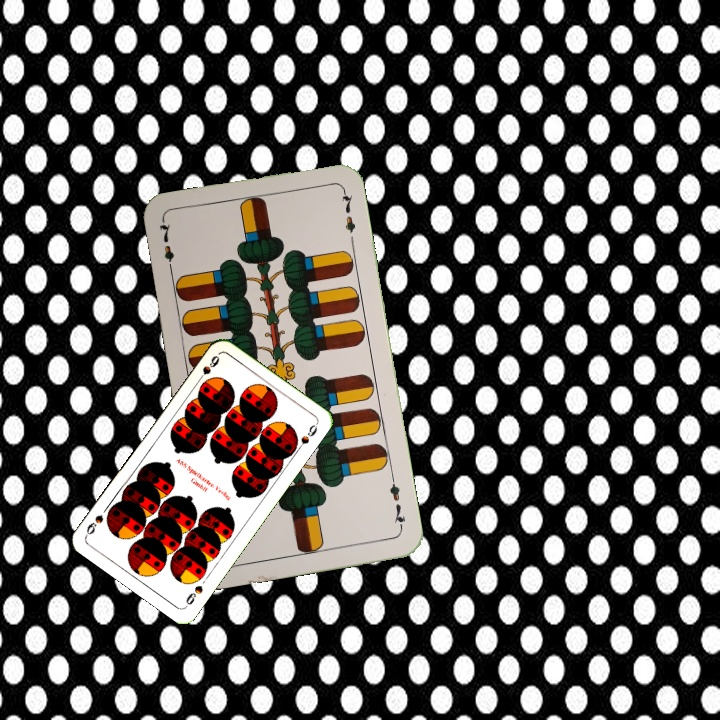E7: (385, 473, 408, 532), (155, 218, 177, 277)
S9: (193, 351, 222, 386), (182, 581, 205, 610)
